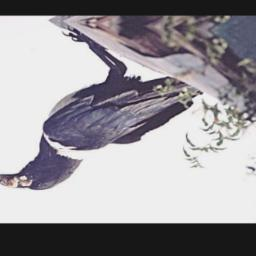Crow: (0, 24, 216, 202)
